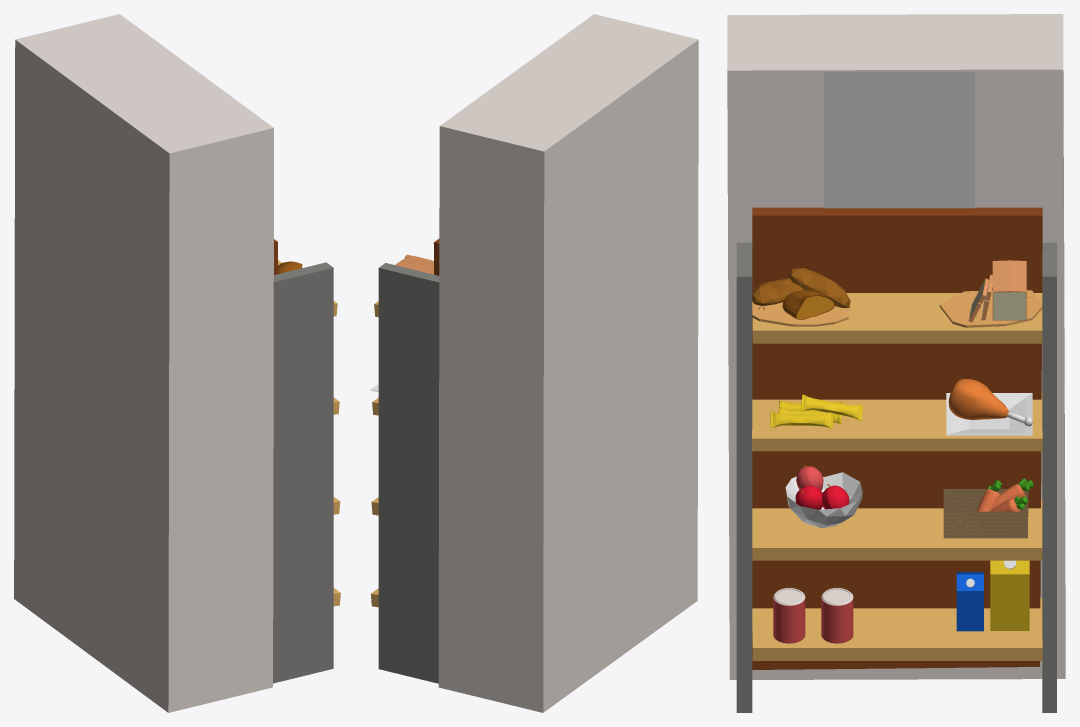
File: Supermarket version for Unity  3.fbx
3 views of the same model, side by side, from view 1: azimuth 30°, elevation 25°; view 2: azimuth 150°, elevation 25°; view 3: azimuth 270°, elevation 25° (orthographic). The views are drawn at different scales.
Visible parts, largest first — view 1: Samsung Screen, Sides; view 2: Samsung Screen, Sides.001; view 3: Back of shelf, Samsung Screen, Empty.001, Shelf.001, Shelf, Shelf.002, Shelf.003, Sides, Sides.001, Cube.005, Milk Carton, Plate (+15 smaller).
Part boxes in pixels (bbox=[...]): Samsung Screen: bbox=[14, 14, 273, 712]; Sides: bbox=[273, 262, 333, 683]; Samsung Screen: bbox=[438, 14, 698, 712]; Sides.001: bbox=[378, 263, 439, 683]; Back of shelf: bbox=[752, 207, 1042, 669]; Samsung Screen: bbox=[727, 14, 1065, 679]; Empty.001: bbox=[824, 72, 974, 208]; Shelf.001: bbox=[752, 498, 1042, 560]; Shelf: bbox=[752, 598, 1042, 660]; Shelf.002: bbox=[752, 390, 1042, 451]; Shelf.003: bbox=[752, 293, 1042, 343]; Sides: bbox=[736, 242, 752, 712]; Sides.001: bbox=[1042, 242, 1056, 712]; Cube.005: bbox=[943, 489, 1028, 538]; Milk Carton: bbox=[990, 560, 1029, 630]; Plate: bbox=[946, 393, 1032, 435].
Size of the model in its own units: 186 by 528 by 265.
